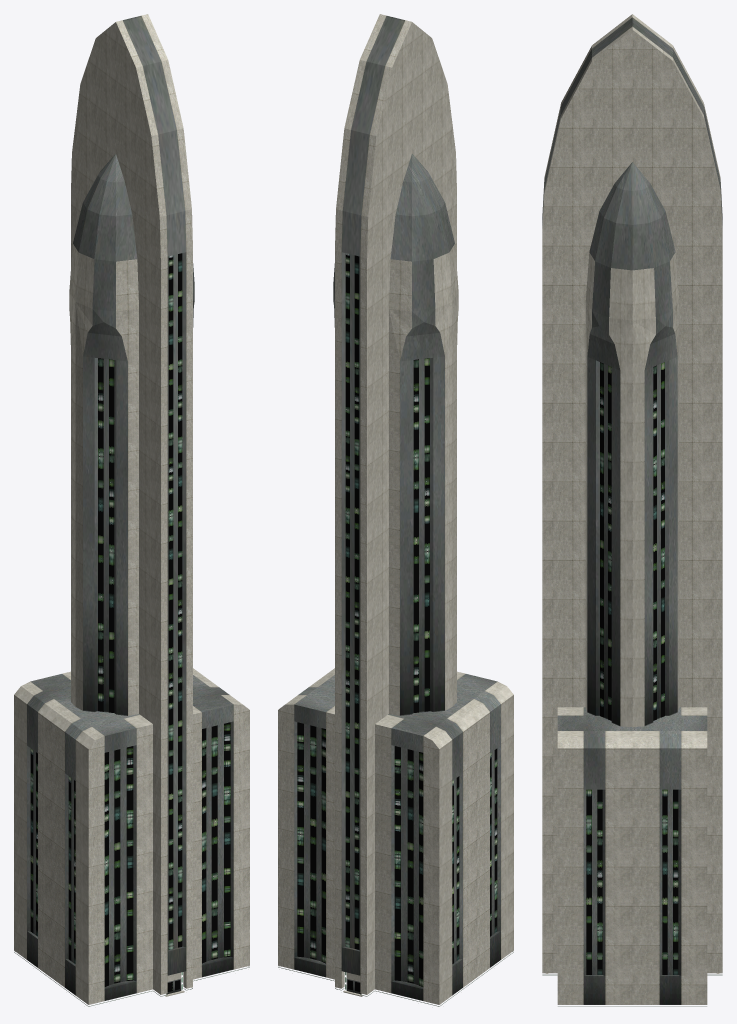
Rendered from thm_corl_skyskraper_s02_l1.fbx.
3 renders of one model, left to right at view 1: azimuth 30°, elevation 25°; view 2: azimuth 150°, elevation 25°; view 3: azimuth 270°, elevation 25°, orthographic.
Parts seen in each view (by area): view 1: mesh_node; view 2: mesh_node; view 3: mesh_node.
Boxes of the visible parts, left/top/right/bottom form: mesh_node: left=14, top=14, right=249, bottom=1006; mesh_node: left=278, top=14, right=513, bottom=1006; mesh_node: left=542, top=14, right=722, bottom=1006.
Bounding box in the file's own units: 34.5 × 193 × 33.32.
